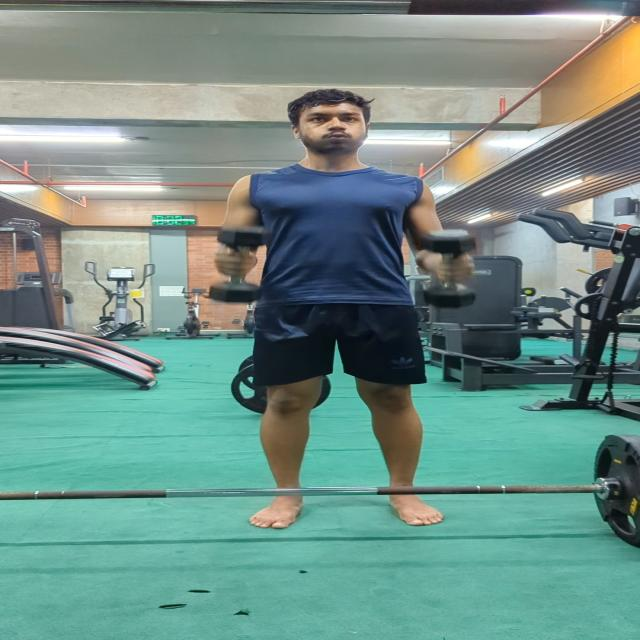Normal_DumbbellBicepCurls: (202, 74, 492, 550)
